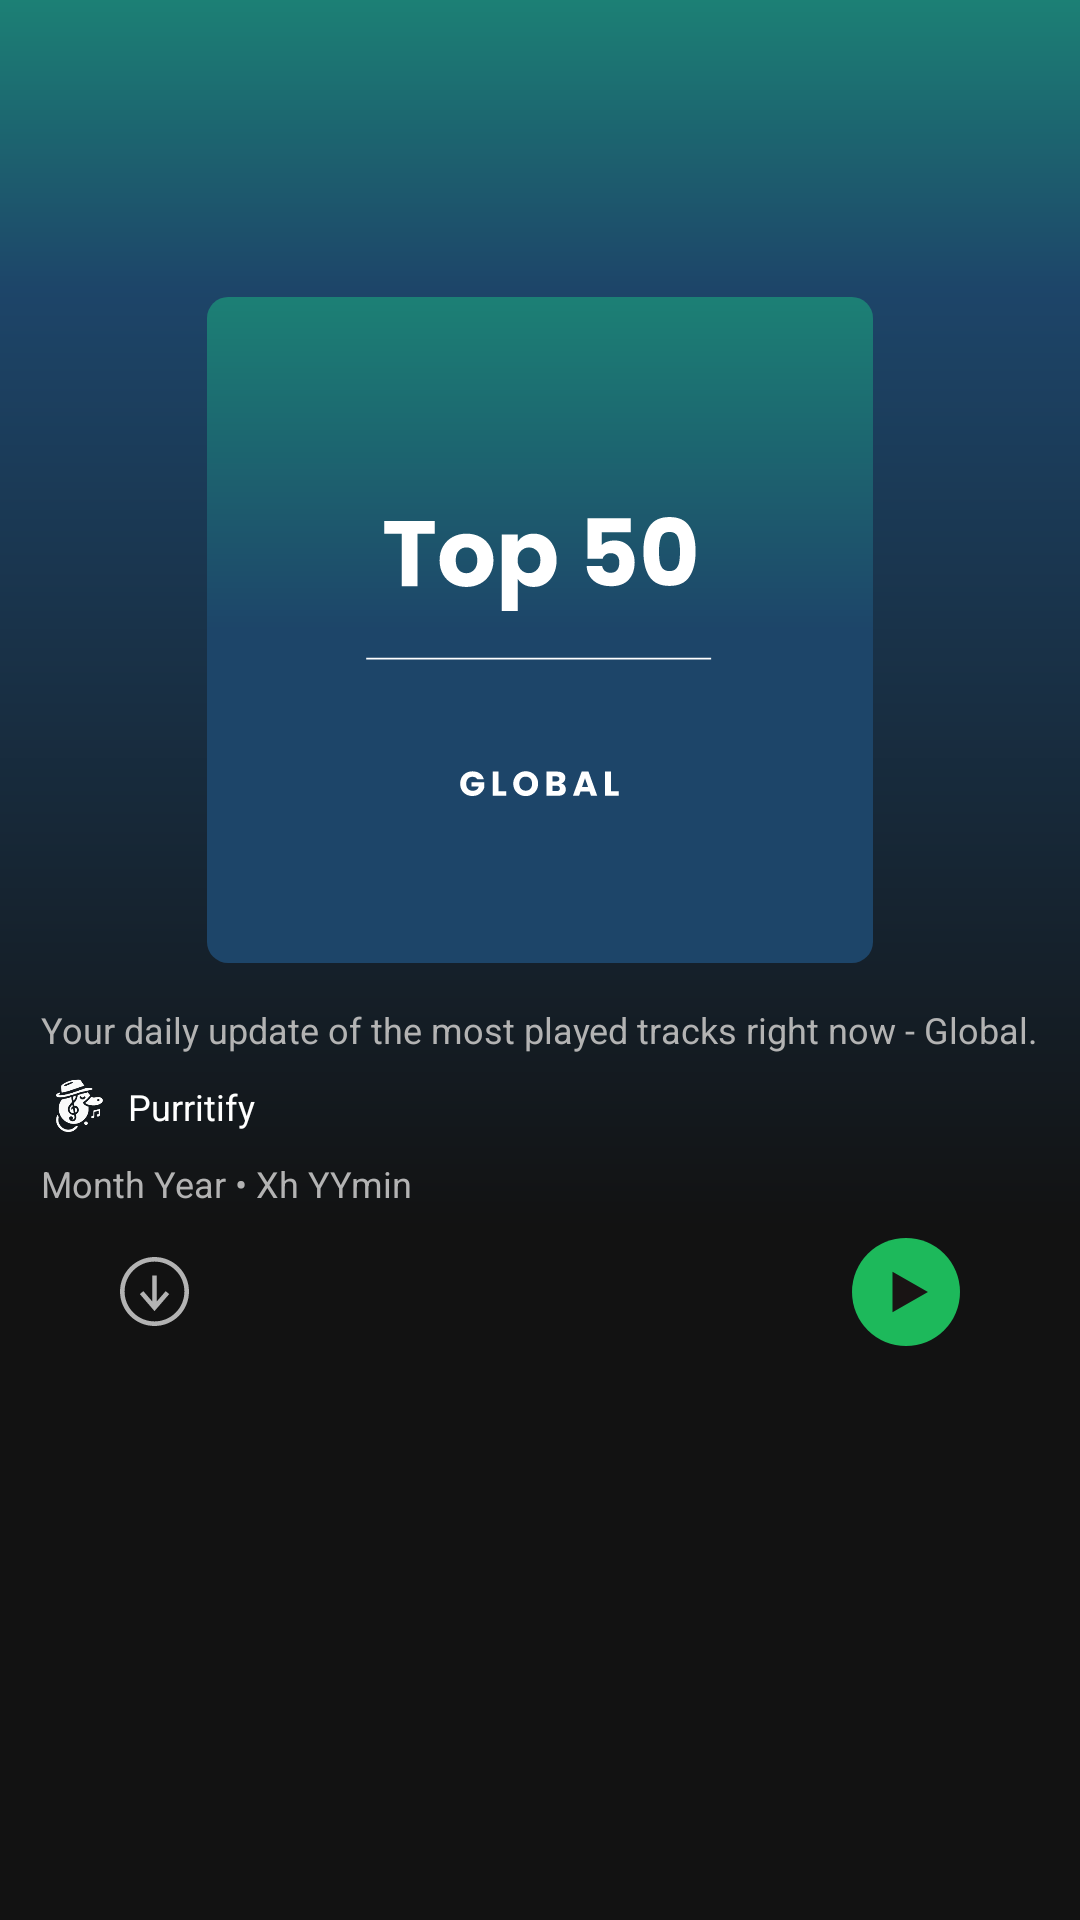

Where icons sit on this 1080×1920 app screen, as (x1, y1, x2, y2):
download capsule: (120, 1257, 189, 1326)
